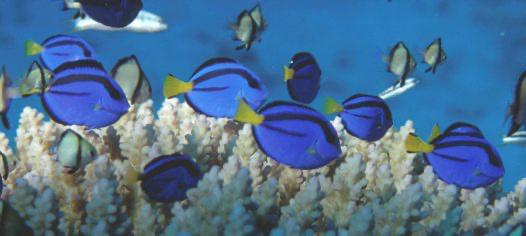Acanthuridae -Surgeonfishes-: (231, 95, 345, 171), (16, 57, 130, 129), (160, 57, 272, 122), (401, 128, 506, 191), (123, 152, 207, 199)
